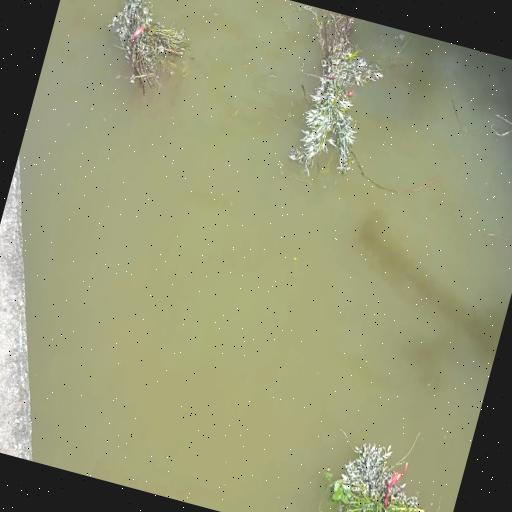twig: (264, 7, 473, 208), (308, 413, 468, 512), (92, 0, 205, 109)
